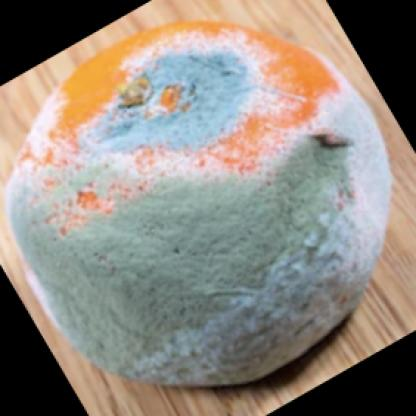rotten: (10, 23, 392, 389)
